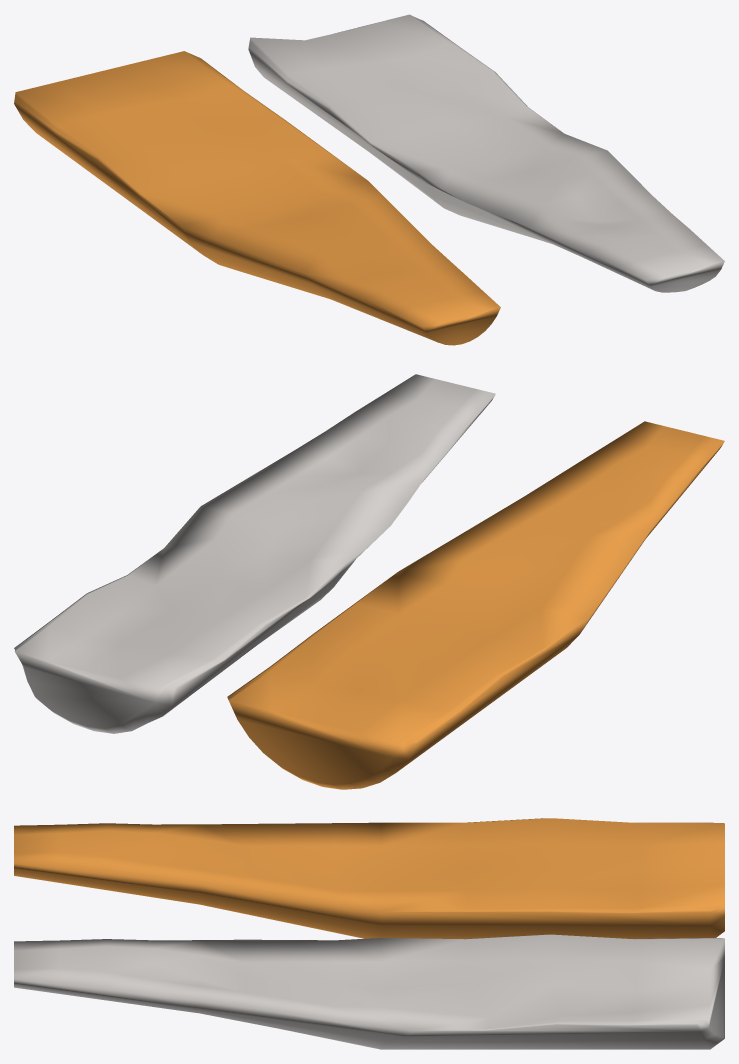
Rendered from Vom Kühlschrank_Saft.fbx.
3 views of the same model, one above another, from view 1: azimuth 30°, elevation 25°; view 2: azimuth 150°, elevation 25°; view 3: azimuth 270°, elevation 25° (orthographic). The views are drawn at different scales.
Parts seen in each view (by area): view 1: Cylinder.007, Cylinder.008; view 2: Cylinder.007, Cylinder.008; view 3: Cylinder.007, Cylinder.008.
Boxes of the visible parts, bbox=[...] form: Cylinder.007: bbox=[14, 51, 500, 345]; Cylinder.008: bbox=[248, 14, 724, 292]; Cylinder.007: bbox=[227, 421, 724, 789]; Cylinder.008: bbox=[14, 374, 495, 733]; Cylinder.007: bbox=[14, 818, 724, 938]; Cylinder.008: bbox=[14, 934, 724, 1049].
Size of the model in its own units: 23.03 by 4.86 by 35.8.
